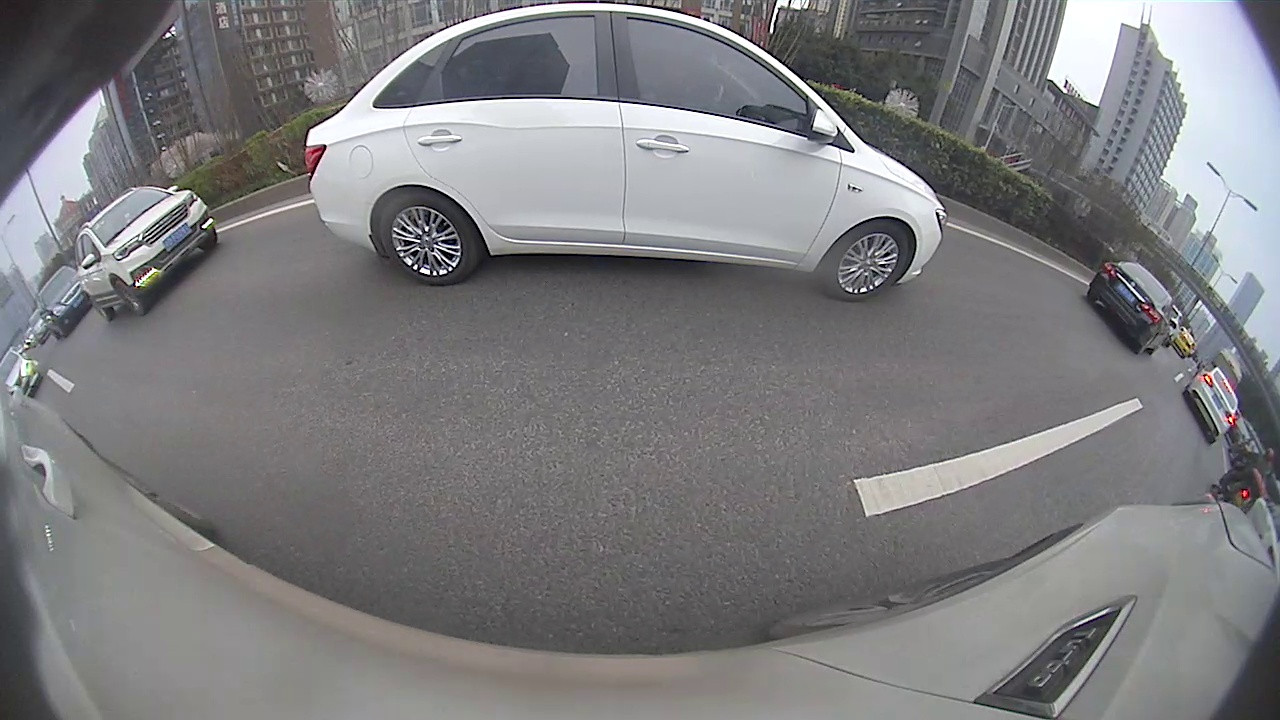car: (304, 2, 950, 305), (73, 183, 219, 324), (1085, 259, 1175, 357), (1182, 362, 1240, 446)
front: (827, 226, 914, 301), (114, 277, 144, 319)
rear: (380, 197, 479, 289)
